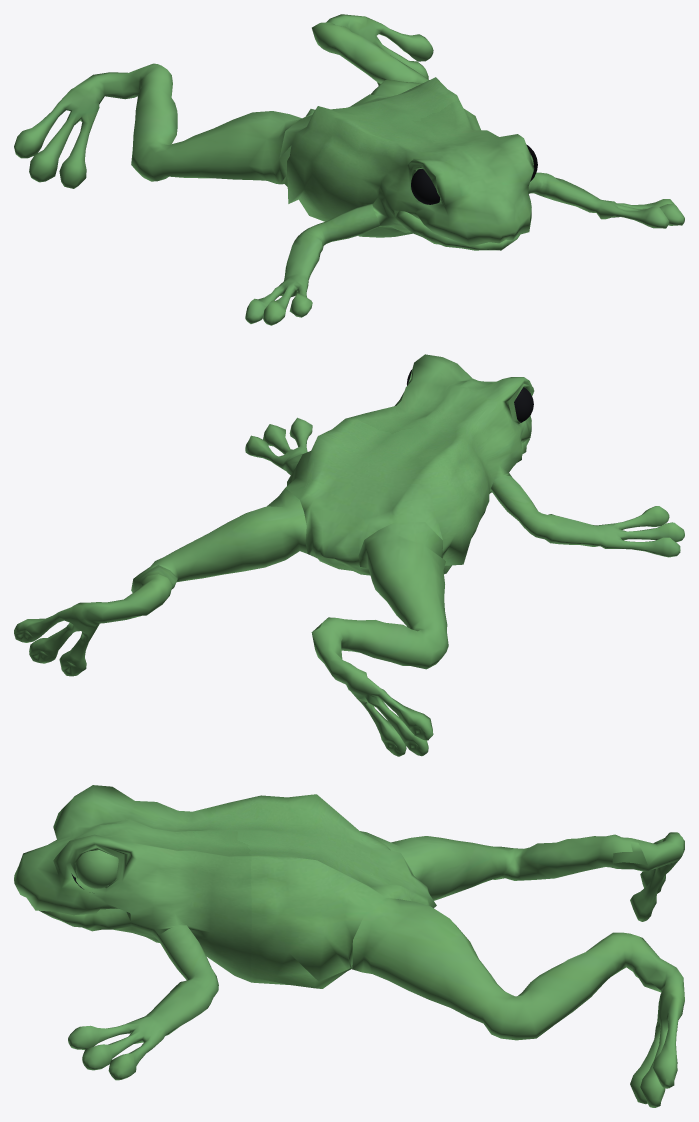
Rendered from cuerpo_rana.obj.
3 views of the same model, one above another, from view 1: azimuth 30°, elevation 25°; view 2: azimuth 150°, elevation 25°; view 3: azimuth 270°, elevation 25° (orthographic). The views are drawn at different scales.
Parts seen in each view (by area): view 1: Object, piernaderecha, piernaizq, brazoderecho, brazoizq; view 2: Object, piernaderecha, piernaizq, brazoderecho, brazoizq; view 3: Object, piernaizq, piernaderecha, brazoizq.
Boxes of the visible parts, bbox=[...] form: Object: bbox=[279, 77, 537, 250]; piernaderecha: bbox=[14, 63, 301, 188]; piernaizq: bbox=[312, 14, 433, 96]; brazoderecho: bbox=[245, 203, 380, 325]; brazoizq: bbox=[528, 172, 684, 228]; Object: bbox=[285, 354, 534, 631]; piernaderecha: bbox=[311, 522, 448, 756]; piernaizq: bbox=[14, 488, 307, 676]; brazoderecho: bbox=[491, 475, 684, 557]; brazoizq: bbox=[245, 417, 312, 475]; Object: bbox=[14, 785, 647, 988]; piernaizq: bbox=[352, 898, 684, 1107]; piernaderecha: bbox=[367, 832, 684, 921]; brazoizq: bbox=[68, 925, 218, 1080].
Bounding box in the file's own units: 124447 × 47676 × 145206.
